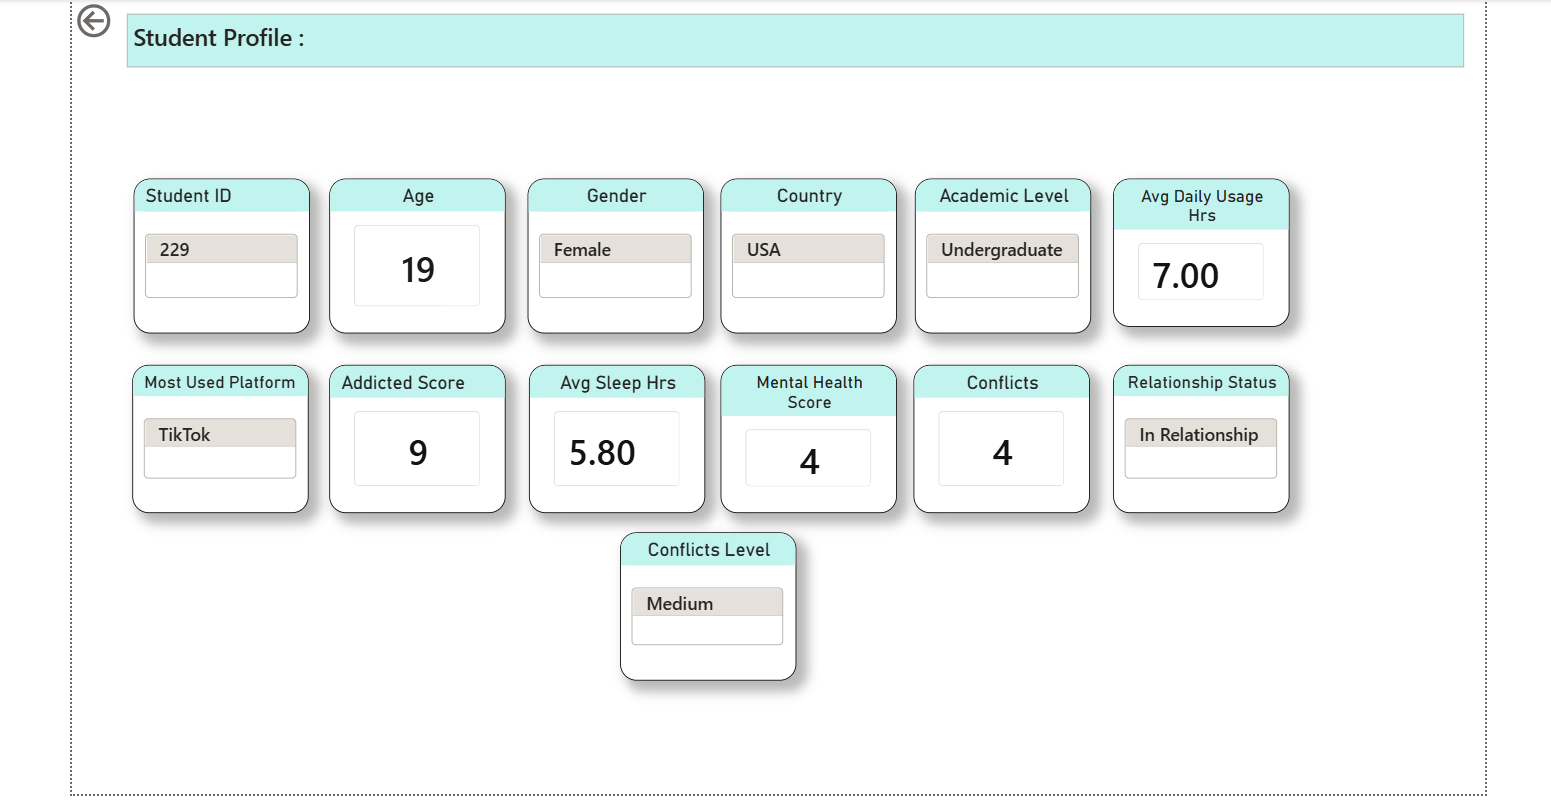

The dashboard page shown, as its layout file describes it:
{"tool":"powerbi","page":{"name":"Student Profile ","canvas":[1280,720],"ordinal":5},"visuals":[{"type":"actionButton","box":[0,0,100,40],"z":0},{"type":"cardVisual","title":"Student ID","fields":{"Rows":["Student Details.Student_ID"]},"box":[55.8,162.2,160,140],"z":1000},{"type":"cardVisual","title":"Age","fields":{"Data":["Sum(Student Details.Age)"]},"box":[232.9,162.2,160,140],"z":2000},{"type":"cardVisual","title":"Gender","fields":{"Rows":["Student Details.Gender"]},"box":[412.9,162.2,160,140],"z":3000},{"type":"cardVisual","title":"Country","fields":{"Rows":["Student Details.Country"]},"box":[587.2,162.2,160,140],"z":4000},{"type":"cardVisual","title":"Academic Level","fields":{"Rows":["Student Details.Academic_Level"]},"box":[762.9,162.2,160,140],"z":5000},{"type":"cardVisual","title":"Avg Daily Usage Hrs","fields":{"Data":["Sum(Platform Details.Avg_Daily_Usage_Hours)"]},"box":[943.3,162.9,160,134.3],"z":6000},{"type":"cardVisual","title":"Most Used Platform","fields":{"Rows":["Platform Details.Most_Used_Platform"]},"box":[54.7,331.4,160,134.3],"z":7000},{"type":"cardVisual","title":"Addicted Score","fields":{"Data":["Sum(Student Details.Addicted_Score)"]},"box":[233.3,331.4,160,134.3],"z":8000},{"type":"cardVisual","title":"Avg Sleep Hrs","fields":{"Data":["Student Details.Avg Sleep Hours"]},"box":[413.3,331.4,160,134.3],"z":9000},{"type":"cardVisual","title":"Mental Health Score","fields":{"Data":["Sum(Student Details.Mental_Health_Score)"]},"box":[587.6,331.4,160,134.3],"z":10000},{"type":"cardVisual","title":"Relationship Status","fields":{"Rows":["Student Details.Relationship_Status"]},"box":[943.3,331.4,160,134.3],"z":11000},{"type":"cardVisual","title":"Conflicts","fields":{"Data":["Sum(Student Details.Conflicts_Over_Social_Media)"]},"box":[762.9,331.4,160,134.3],"z":12000},{"type":"cardVisual","title":"Conflicts Level","fields":{"Rows":["Student Details.Conflict Level"]},"box":[496.4,483,159.7,134.4],"z":13000},{"type":"textbox","box":[50,12.9,1211.4,48.6],"z":14000}]}

Visuals, with their boxes in screenshot pixels (x1, y1, x2, y2):
actionButton: detection(73, 0, 182, 40)
"Student ID" cardVisual: detection(134, 174, 309, 327)
"Age" cardVisual: detection(328, 174, 503, 327)
"Gender" cardVisual: detection(525, 174, 700, 327)
"Country" cardVisual: detection(716, 174, 891, 327)
"Academic Level" cardVisual: detection(908, 174, 1084, 327)
"Avg Daily Usage Hrs" cardVisual: detection(1106, 174, 1281, 322)
"Most Used Platform" cardVisual: detection(133, 359, 308, 506)
"Addicted Score" cardVisual: detection(328, 359, 504, 506)
"Avg Sleep Hrs" cardVisual: detection(525, 359, 701, 506)
"Mental Health Score" cardVisual: detection(716, 359, 892, 506)
"Relationship Status" cardVisual: detection(1106, 359, 1281, 506)
"Conflicts" cardVisual: detection(908, 359, 1084, 506)
"Conflicts Level" cardVisual: detection(616, 525, 791, 672)
textbox: detection(127, 10, 1454, 63)
